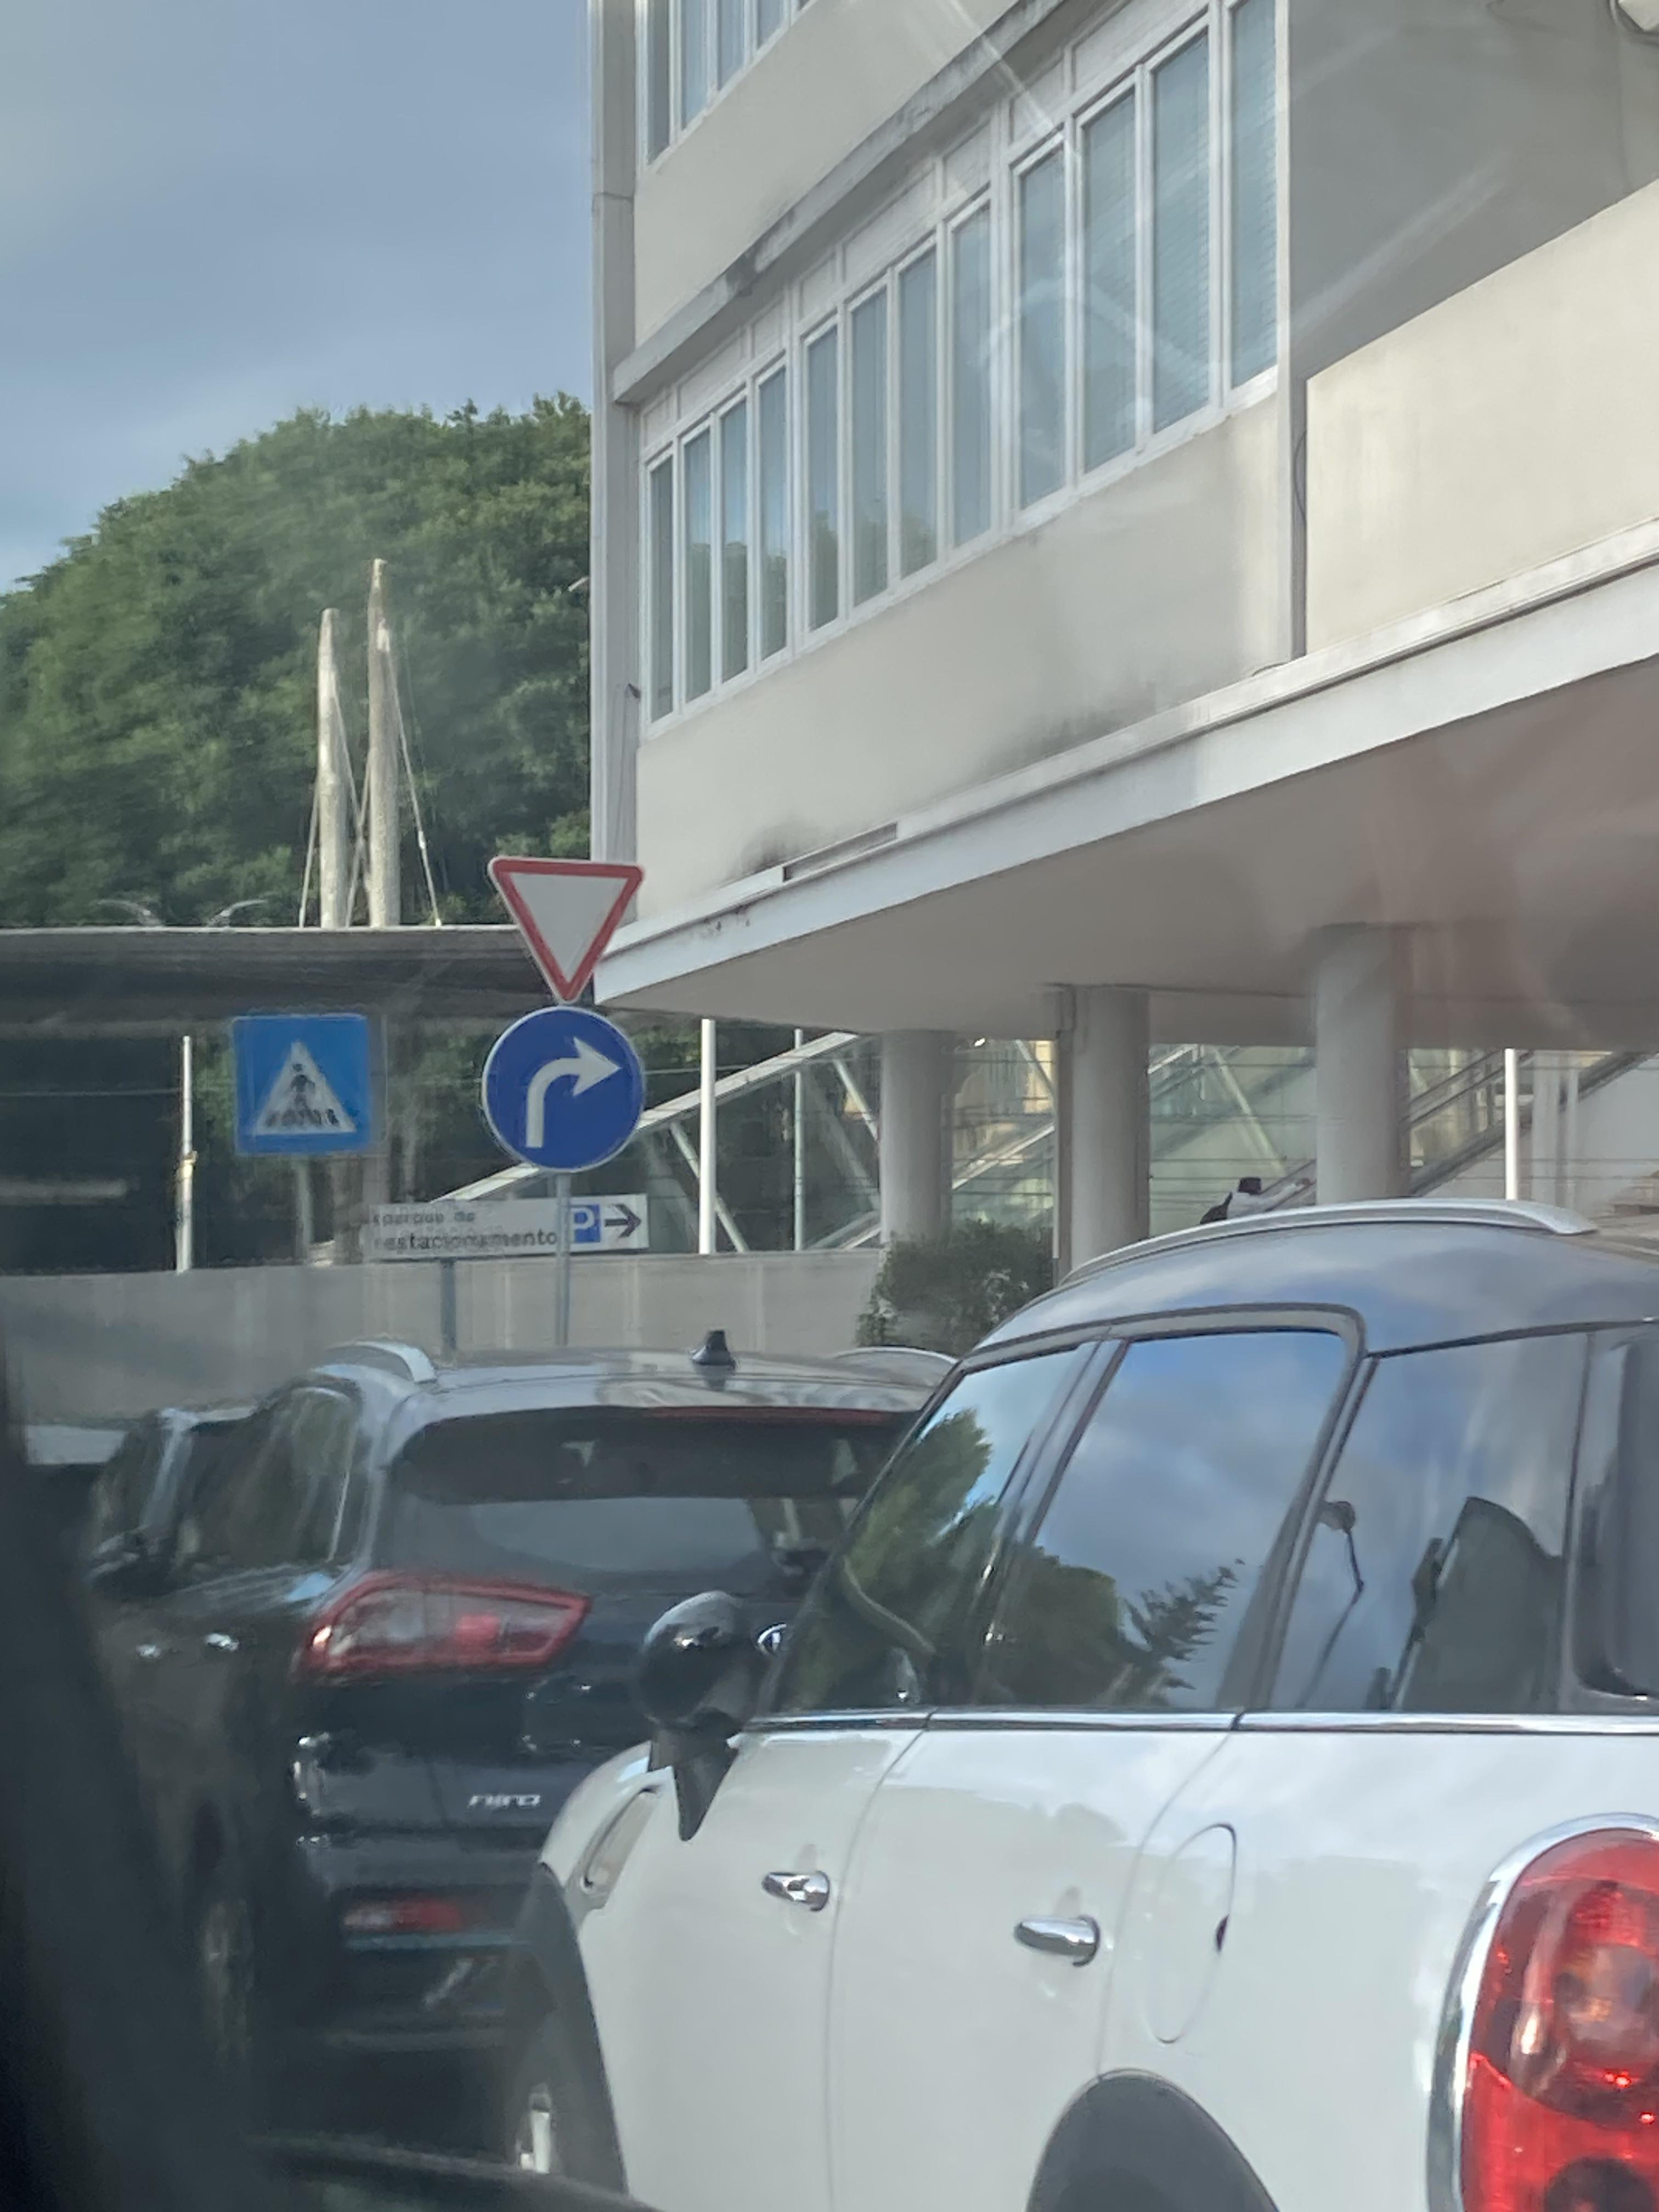Cedencia de passagem: (477, 850, 640, 1029)
Indicacao de ambito urbano: (362, 1202, 648, 1256)
Sentido obrigatorio: (472, 995, 657, 1174)
passagem de peoes: (234, 1017, 373, 1151)
